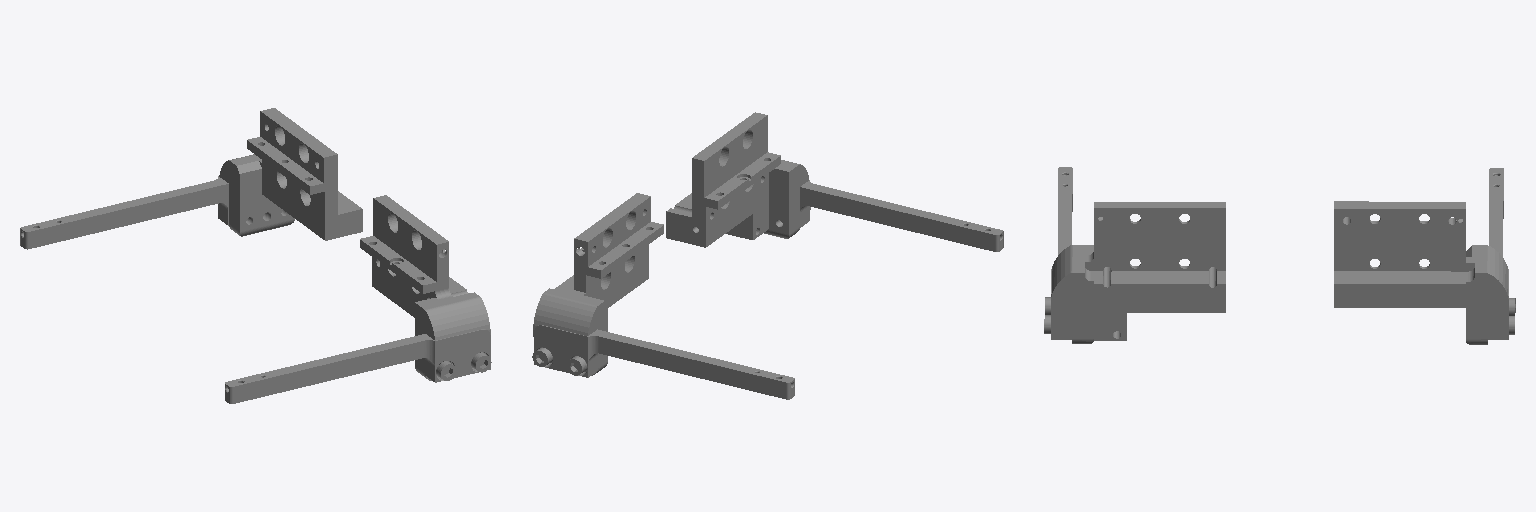
The robot description file, URDF, robot "PF3400SX Robot":
<robot name="PF3400SX Robot">

  <!-- Materials -->

  <material name="white">
    <color rgba="1 1 1 1"/>
  </material>

  <material name="aluminum">
    <color rgba="0.6 0.6 0.6 1"/>
  </material>

  <!-- Links -->

  <link name="pf400_module">
    <visual>
      <origin xyz="1.5 -1.915 -0.9" rpy="1.5708 0 3.14"/>
      <geometry>
        <mesh filename="package://pf400_description/meshes/PF400_module.STL" scale="0.0008 0.0008 0.0008"/>
      </geometry>
      <material name="white"/>
    </visual>
  </link>

  <link name="rail_base">
    <visual>
      <origin xyz="0.125 -0.0198 0.8" rpy="0 0 1.5708"/>
      <geometry>
        <mesh filename="package://pf400_description/meshes/rail_base.STL" scale="1 1 1"/>
      </geometry>
      <material name="white"/>
    </visual>
  </link>

  <link name="rail">
    <visual>
      <origin xyz="0.1309 -0.0198 0.8320" rpy="1.5708 0 1.5708"/>
      <geometry>
        <mesh filename="package://pf400_description/meshes/rail.STL" scale="1 1 1"/>
      </geometry>
      <material name="white"/>
    </visual>
  </link>

  <link name="z_column">
    <visual>
      <origin xyz="0 0 0.874" rpy="0 0 0"/>
      <geometry>
        <mesh filename="package://pf400_description/meshes/PF400_Z_Column.STL" scale="0.001 0.001 0.00132"/>
      </geometry>
      <material name="white"/>
    </visual>
  </link>

  <link name="z_carriage">
    <visual>
      <origin xyz="0 0 0.874" rpy="0 0 0"/>
      <geometry>
        <mesh filename="package://pf400_description/meshes/PF400_Z_Carriage.STL" scale="0.001 0.001 0.001"/>
      </geometry>
      <material name="white"/>
    </visual>
  </link>

  <link name="inner_link">
    <visual>
      <origin xyz="0 0 0.874" rpy="0 0 0"/>
      <geometry>
        <mesh filename="package://pf400_description/meshes/PF400_Inner_Link.STL" scale="0.001 0.001 0.001"/>
      </geometry>
      <material name="white"/>
    </visual>
  </link>

  <link name="outer_link">
    <visual>
      <origin xyz="0 0 0.874" rpy="0 0 0"/>
      <geometry>
        <mesh filename="package://pf400_description/meshes/PF400_Outer_Link.STL" scale="0.001 0.001 0.001"/>
      </geometry>
      <material name="white"/>
    </visual>
  </link>

  <link name="hand">
    <visual>
      <origin xyz="0 0 0.874" rpy="0 0 0"/>
      <geometry>
        <mesh filename="package://pf400_description/meshes/PF400_Hand.STL" scale="0.001 0.001 0.001"/>
      </geometry>
      <material name="white"/>
    </visual>
  </link>

  <link name="left_finger">
    <visual>
      <origin xyz="-0.02 -0.053 0.853" rpy="0 0 0"/>
      <geometry>
        <mesh filename="package://pf400_description/meshes/pf400_left_finger.STL" scale="0.001 0.001 0.001"/>
      </geometry>
      <material name="aluminum"/>
    </visual>
  </link>

  <link name="right_finger">
    <visual>
      <origin xyz="-0.021 -0.028 0.905" rpy="-1.5708 0 0"/>
      <geometry>
        <mesh filename="package://pf400_description/meshes/pf400_right_finger.STL" scale="0.001 0.001 0.001"/>
      </geometry>
      <material name="aluminum"/>
    </visual>
  </link>



  <!-- Joints -->

  <joint name="J1" type="prismatic">
    <parent link="z_column"/>
    <child link="z_carriage"/>
    <axis xyz="0 0 1"/>
    <origin xyz="0.03005 -0.0198 0.17535" rpy="0 0 0"/>
    <limit effort="1000.0" lower="0.002" upper="1.160" velocity="0.5"/>  </joint>

  <joint name="J2" type="revolute">
    <parent link="z_carriage"/>
    <child link="inner_link"/>
    <axis xyz="0 0 1"/>
    <origin xyz="0.173001 0.020 0.0235" rpy="0 0 0"/>
    <limit effort="1000.0" lower="-1.62316" upper="1.62316" velocity="0.5"/>
  </joint>

  <joint name="J3" type="revolute">
    <parent link="inner_link"/>
    <child link="outer_link"/>
    <axis xyz="0 0 1"/>
    <origin xyz="0.302 0 -0.072285" rpy="0 0 0"/>
    <limit effort="1000.0" lower="0.175" upper="6.1" velocity="0.5"/>
  </joint>

  <joint name="J4" type="revolute">
    <parent link="outer_link"/>
    <child link="hand"/>
    <axis xyz="0 0 1"/>
    <origin xyz="0.289 0 -0.032942" rpy="0 0 0"/>
    <limit effort="1000.0" lower="-16.7552" upper="16.7552" velocity="0.5"/>
  </joint>

  <joint name="J5" type="prismatic">
    <parent link="hand"/>
    <child link="left_finger"/>
    <axis xyz="0 1 0"/>
    <origin xyz="0.078573 0 -0.04269" rpy="0 0 0"/>
    <limit effort="1000.0" lower="0.067454" upper="0.070" velocity="0.5"/>
  </joint>

  <joint name="J5_mirror" type="prismatic">
    <parent link="hand"/>
    <child link="right_finger"/>
    <axis xyz="0 -1 0"/>
    <origin xyz="0.078573 0 -0.04269" rpy="0 0 0"/>
    <limit effort="1000.0" lower="0.067454" upper="0.070" velocity="0.5"/>
    <mimic joint="J5" multiplier="1"/>
  </joint>

  <joint name="J6" type="prismatic">
    <parent link="rail_base"/>
    <child link="rail"/>
    <axis xyz="1 0 0"/>
    <origin xyz="0 0 0" rpy="0 0 0"/>
    <limit effort="1000.0" lower="-1" upper="1" velocity="0.5"/>
  </joint>

  <joint name="rail_link" type="fixed">
    <parent link="rail"/>
    <child link="z_column"/>
    <axis xyz="0 1 0"/>
    <origin xyz="0.03005 -0.0198 0.05" rpy="0 0 0"/>
    <limit effort="1000.0" lower="0" upper="0" velocity="0.5"/>
  </joint>

  <joint name="module_table" type="fixed">
    <parent link="pf400_module"/>
    <child link="rail_base"/>
    <axis xyz="0 0 1"/>
    <origin xyz="0 0 0" rpy="0 0 0"/>
    <limit effort="1000.0" lower="0" upper="0" velocity="0.5"/>
  </joint>

</robot>

--- Render facts (derived) ---
Views: 3 orthographic renders of the robot side by side, from view 1: azimuth 30°, elevation 25°; view 2: azimuth 150°, elevation 25°; view 3: azimuth 270°, elevation 25°.
Robot: PF3400SX Robot — 10 links, 9 joints (3 revolute, 4 prismatic, 2 fixed); root link pf400_module; default pose: joints at zero except 4 at the middle of their limits (J1 = 0.581, J3 = 3.14, J5 = 0.0687, J5_mirror = 0.0687).
Links seen in each view (by area): view 1: left_finger, right_finger; view 2: left_finger, right_finger; view 3: left_finger, right_finger.
Boxes of the visible links, left/top/right/bottom form: left_finger: left=225, top=195, right=491, bottom=403; right_finger: left=20, top=108, right=362, bottom=249; left_finger: left=666, top=112, right=1003, bottom=251; right_finger: left=532, top=193, right=794, bottom=399; left_finger: left=1044, top=167, right=1225, bottom=343; right_finger: left=1334, top=168, right=1515, bottom=344.
Bounding box of the posed robot: 0.0963 × 0.1429 × 0.0438 m (x, y, z).
Meshes: 10 distinct files referenced, 2 mesh visuals loaded (2 binary STL); not drawn: 2 (reference not matched to a file when rendering), 6 (file found but could not be loaded).